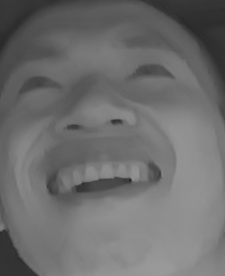eye: (125, 53, 179, 88), (15, 68, 64, 98)
mouth: (34, 143, 167, 213)
